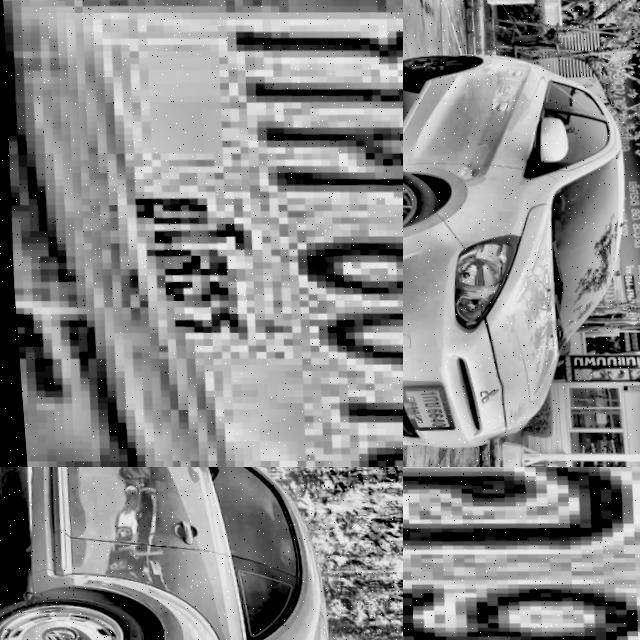license-plate: (0, 0, 403, 467), (403, 467, 640, 640), (403, 383, 449, 434)
